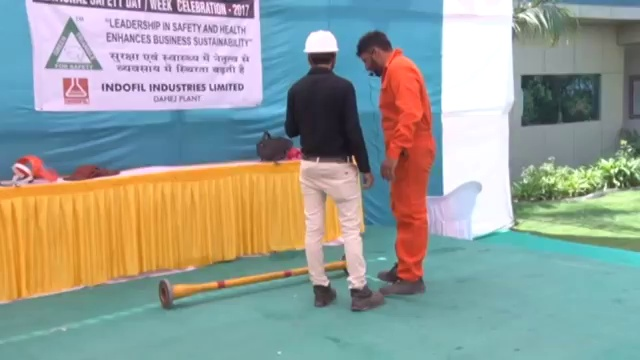helmet: (301, 28, 341, 56)
helmet_off: (353, 28, 394, 81)
helmet_on: (299, 27, 342, 72)
person: (285, 29, 385, 313), (354, 26, 436, 297)
